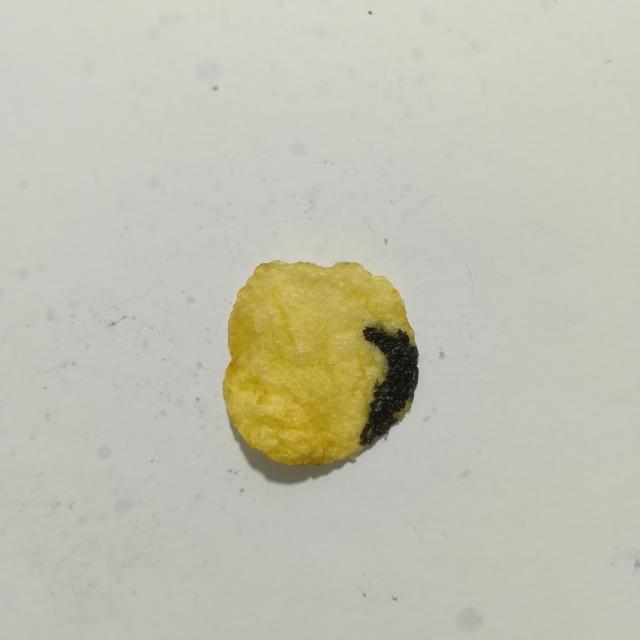chip: (223, 261, 418, 465)
damaged: (360, 327, 418, 445)
semi-damaged: (364, 318, 412, 337)
